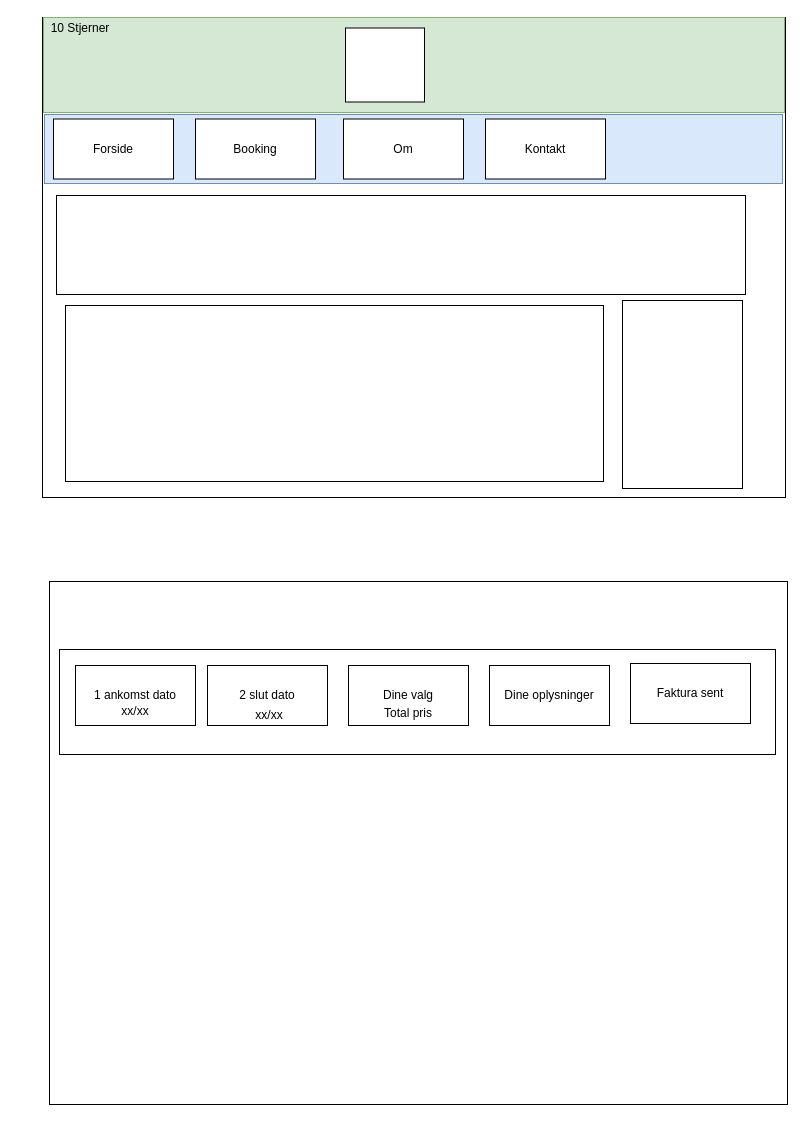
Image size: 805x1122. Some labels were removed from this diagram. The centre of each missing label's shape, as x and y in pixels:
Billede: [334,393]
Book nu: [682,394]
Logo: [384,64]
Tekst beskrivelse: [401,244]
